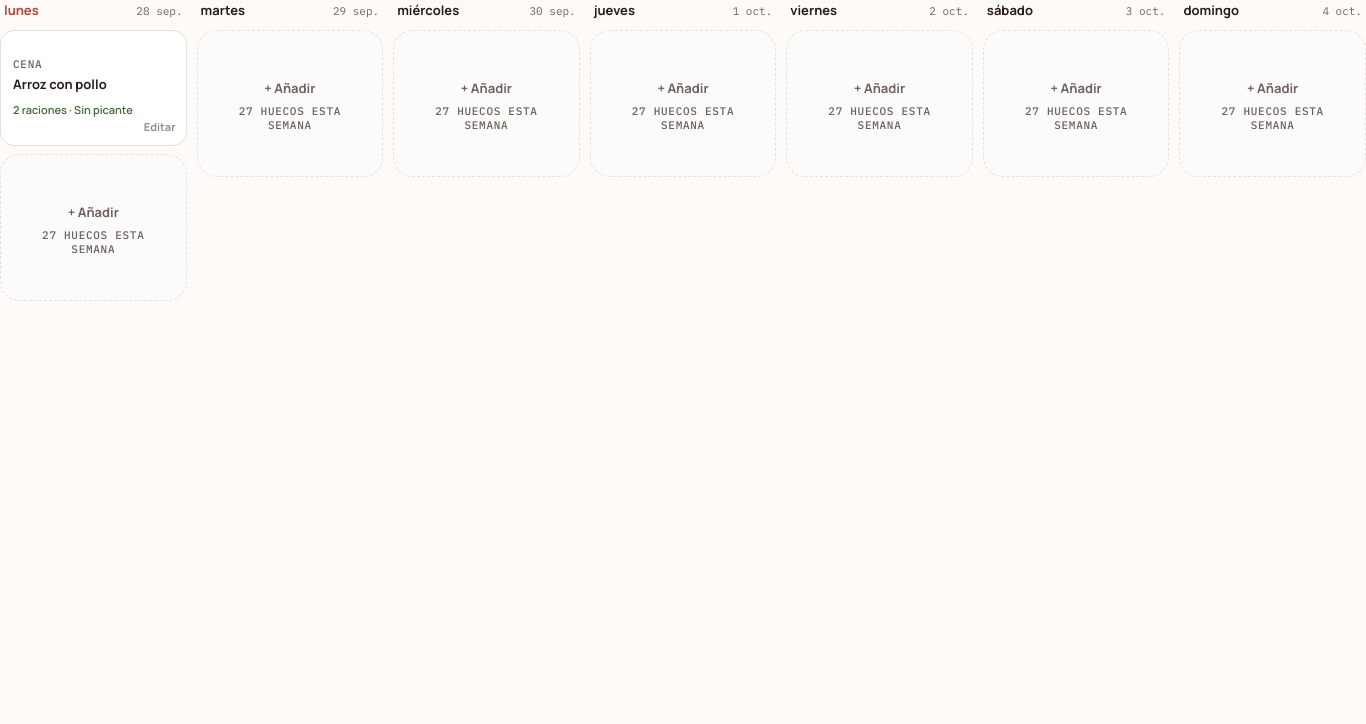
Test: weekly plan board › creates an ingredient inline and selects it in the recipe form
Click the button with aria-label "añadir comida el" at (93, 227), box x1=0 y1=154 x2=187 y2=301
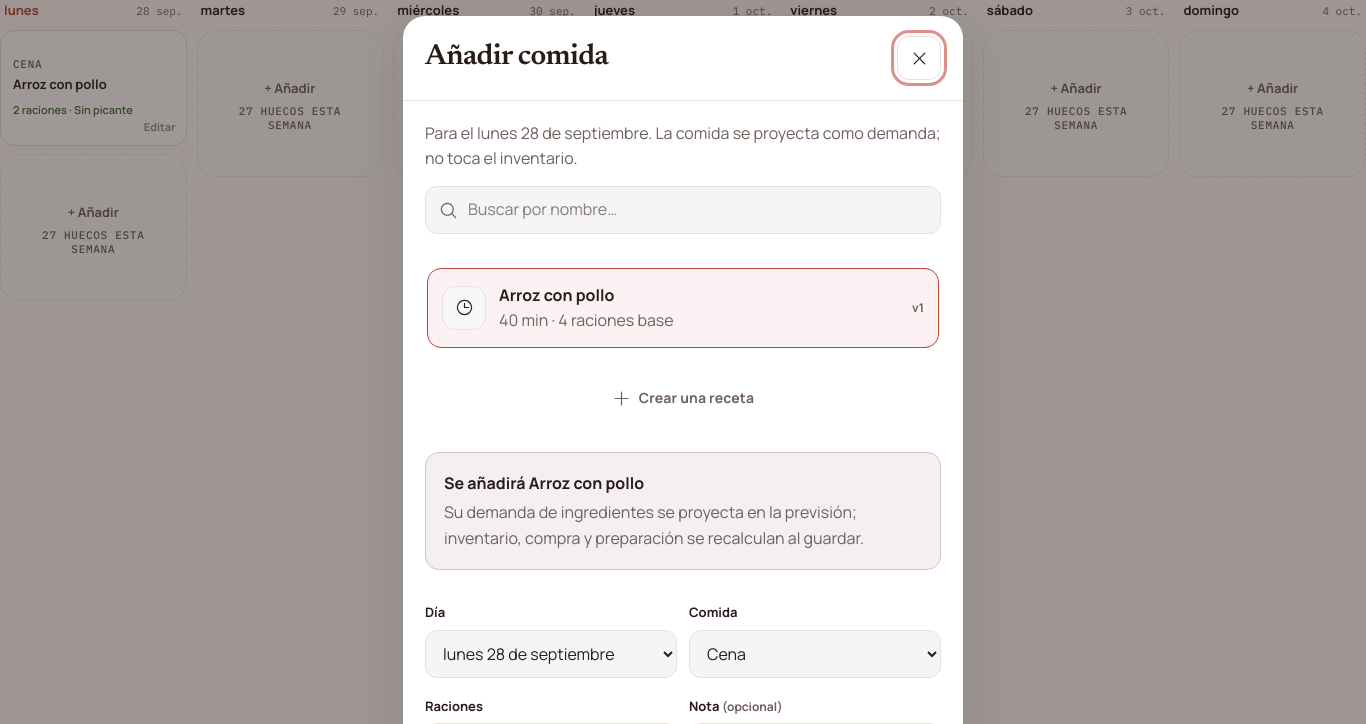
Click the button "Crear una receta" at (683, 398), box x1=425 y1=376 x2=941 y2=420
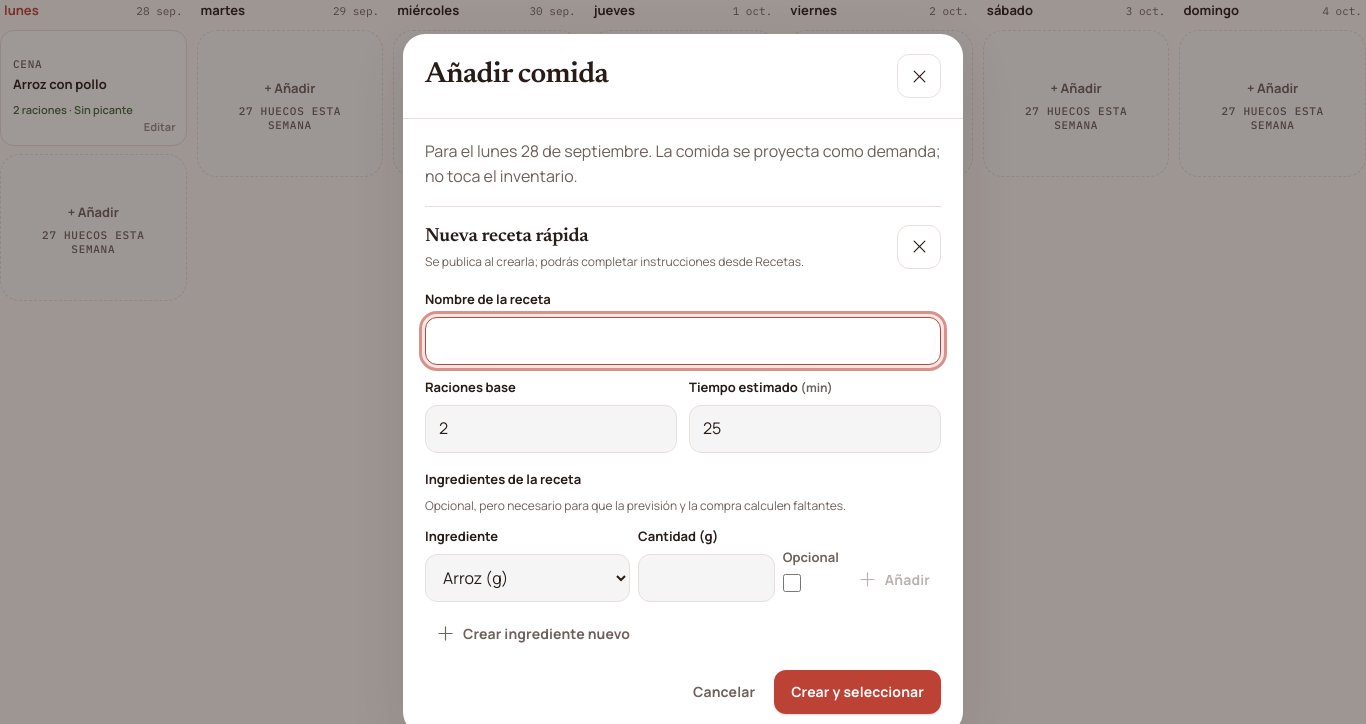
Click the button "Crear ingrediente nuevo" at (533, 634), box x1=425 y1=612 x2=641 y2=656
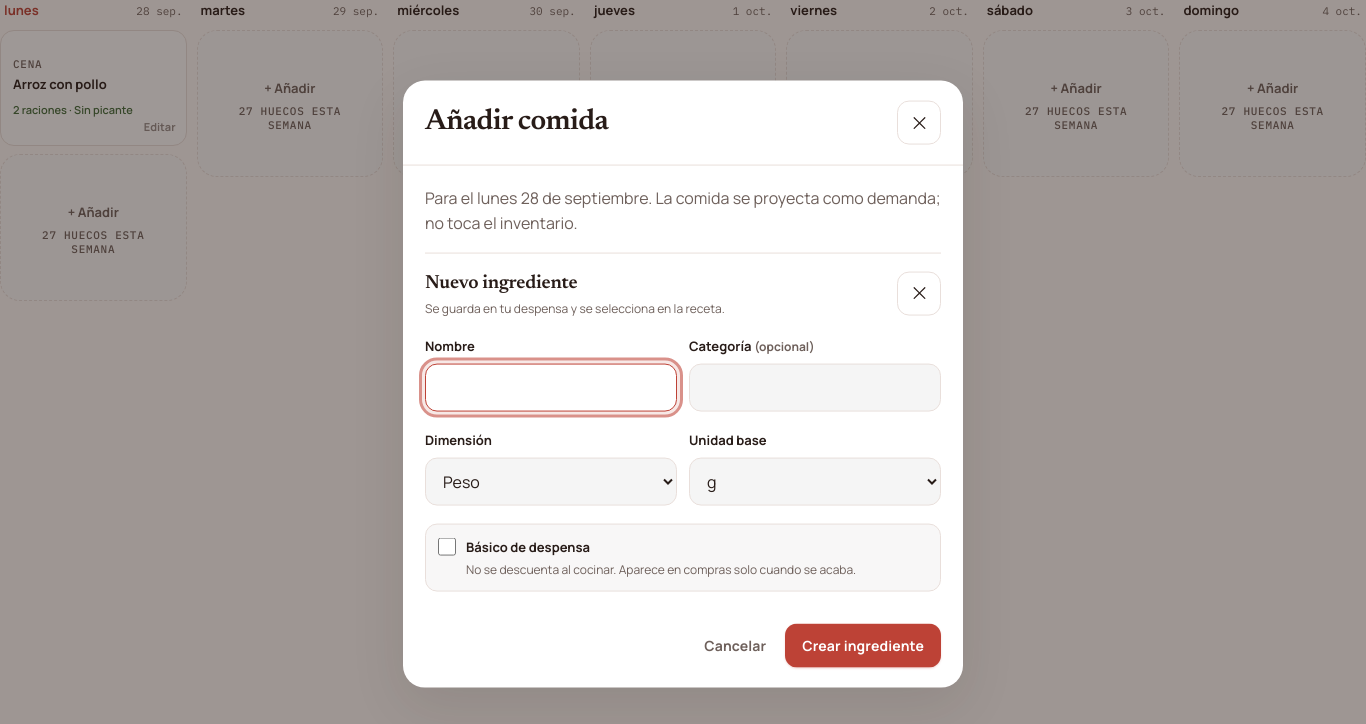
Expected: the heading "Nuevo ingrediente" is shown, x1=425 y1=273 x2=577 y2=292
Type "Tomate" into the field labelled "Nombre" at (551, 388), box x1=425 y1=364 x2=677 y2=412
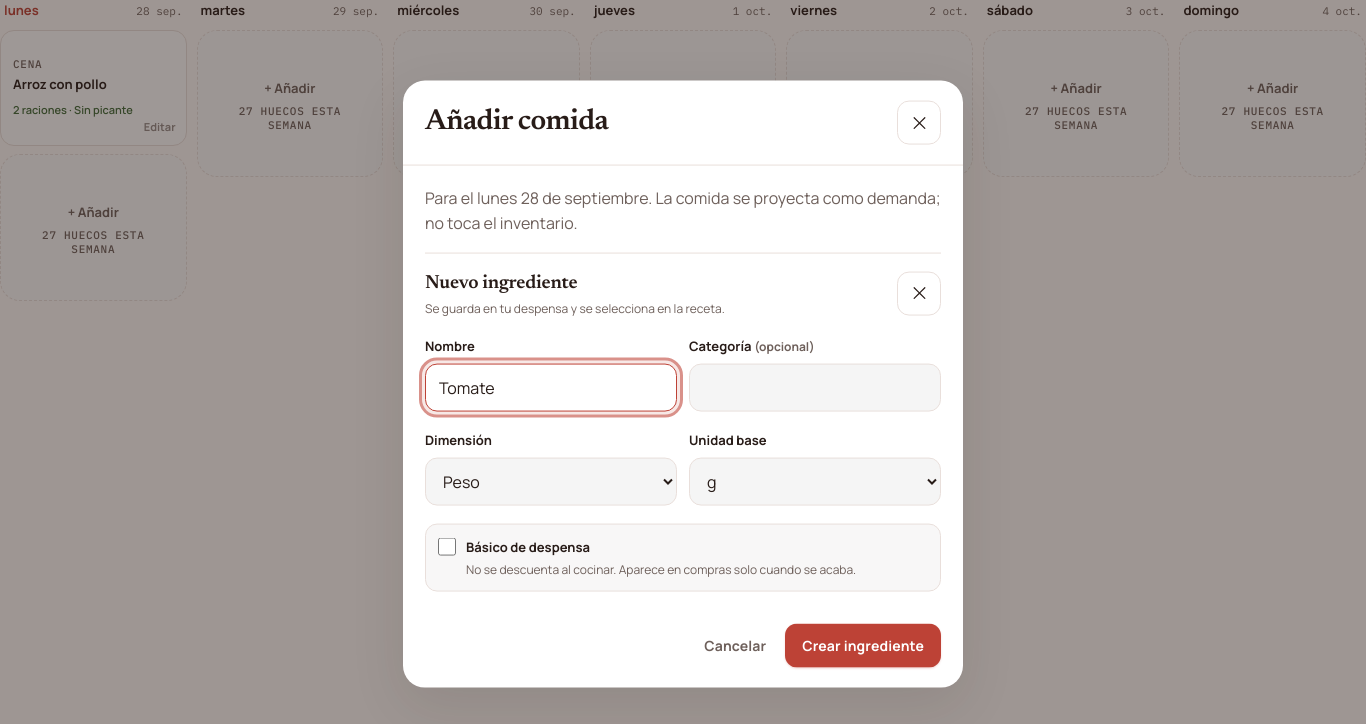
Submit the form named "crear ingrediente", box x1=425 y1=336 x2=941 y2=667
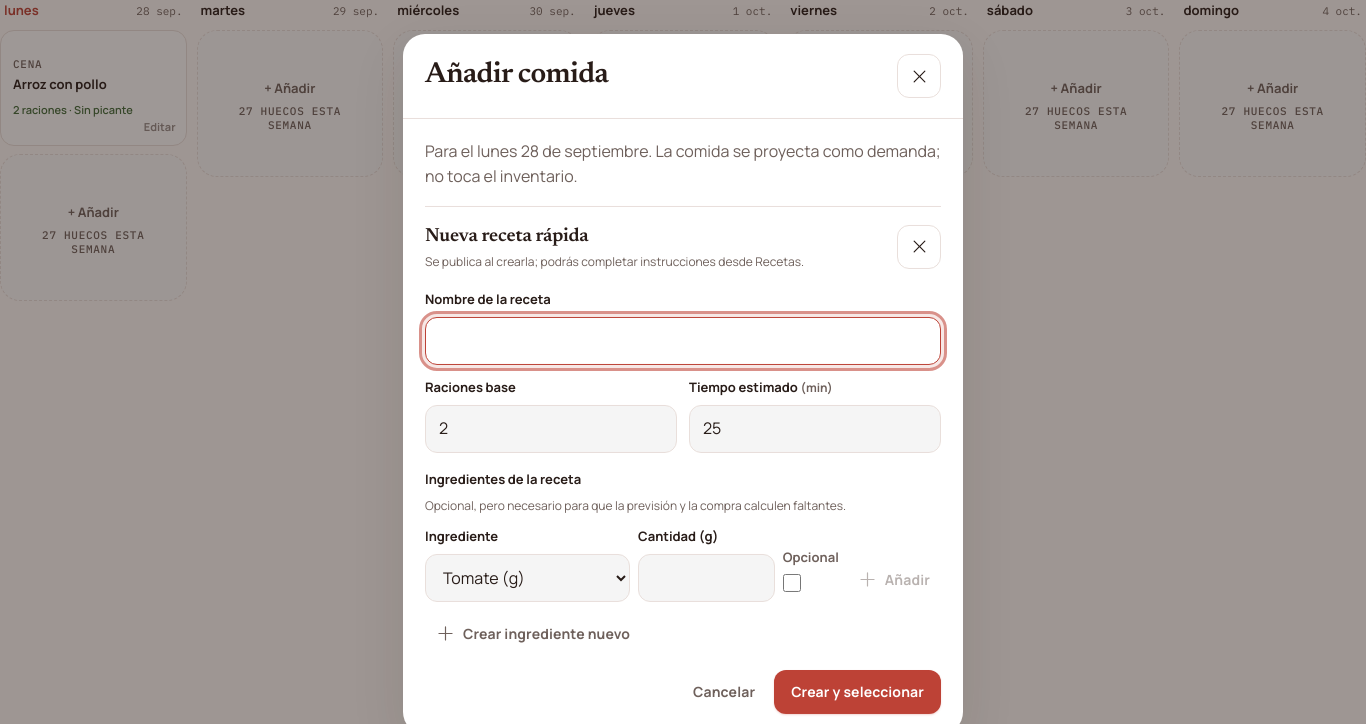
Expected: the heading "Nueva receta rápida" is shown, x1=425 y1=226 x2=588 y2=246
Expected: the dropdown labelled "Ingrediente" shows "Tomate (g)", x1=425 y1=554 x2=630 y2=602
